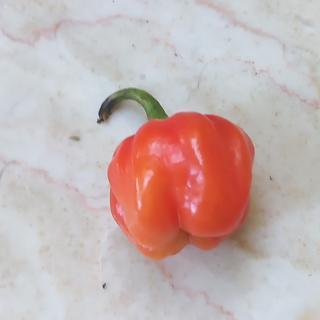Grade-B: (101, 109, 260, 260)
